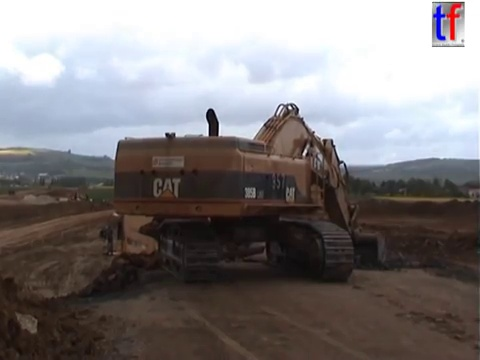excavator: (109, 99, 390, 285), (61, 189, 92, 206)
truck: (97, 209, 270, 281), (6, 187, 17, 197)
